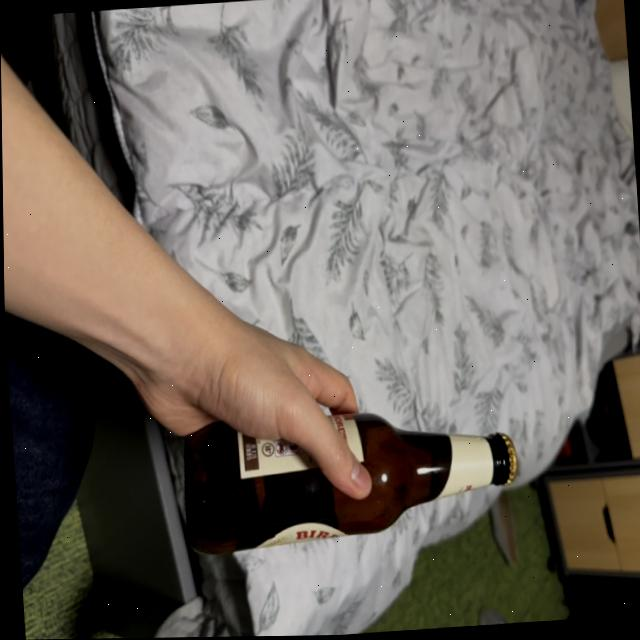beer: (169, 399, 529, 555)
